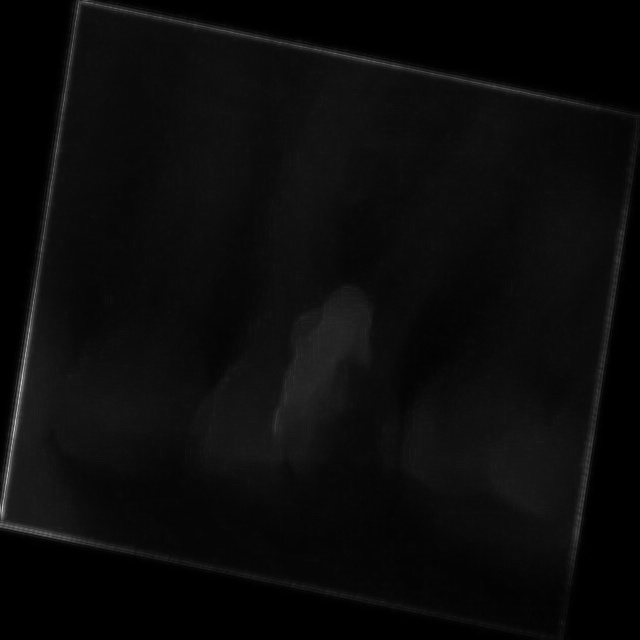Class 2- incomplete endodontic treatment: (150, 33, 524, 572)
